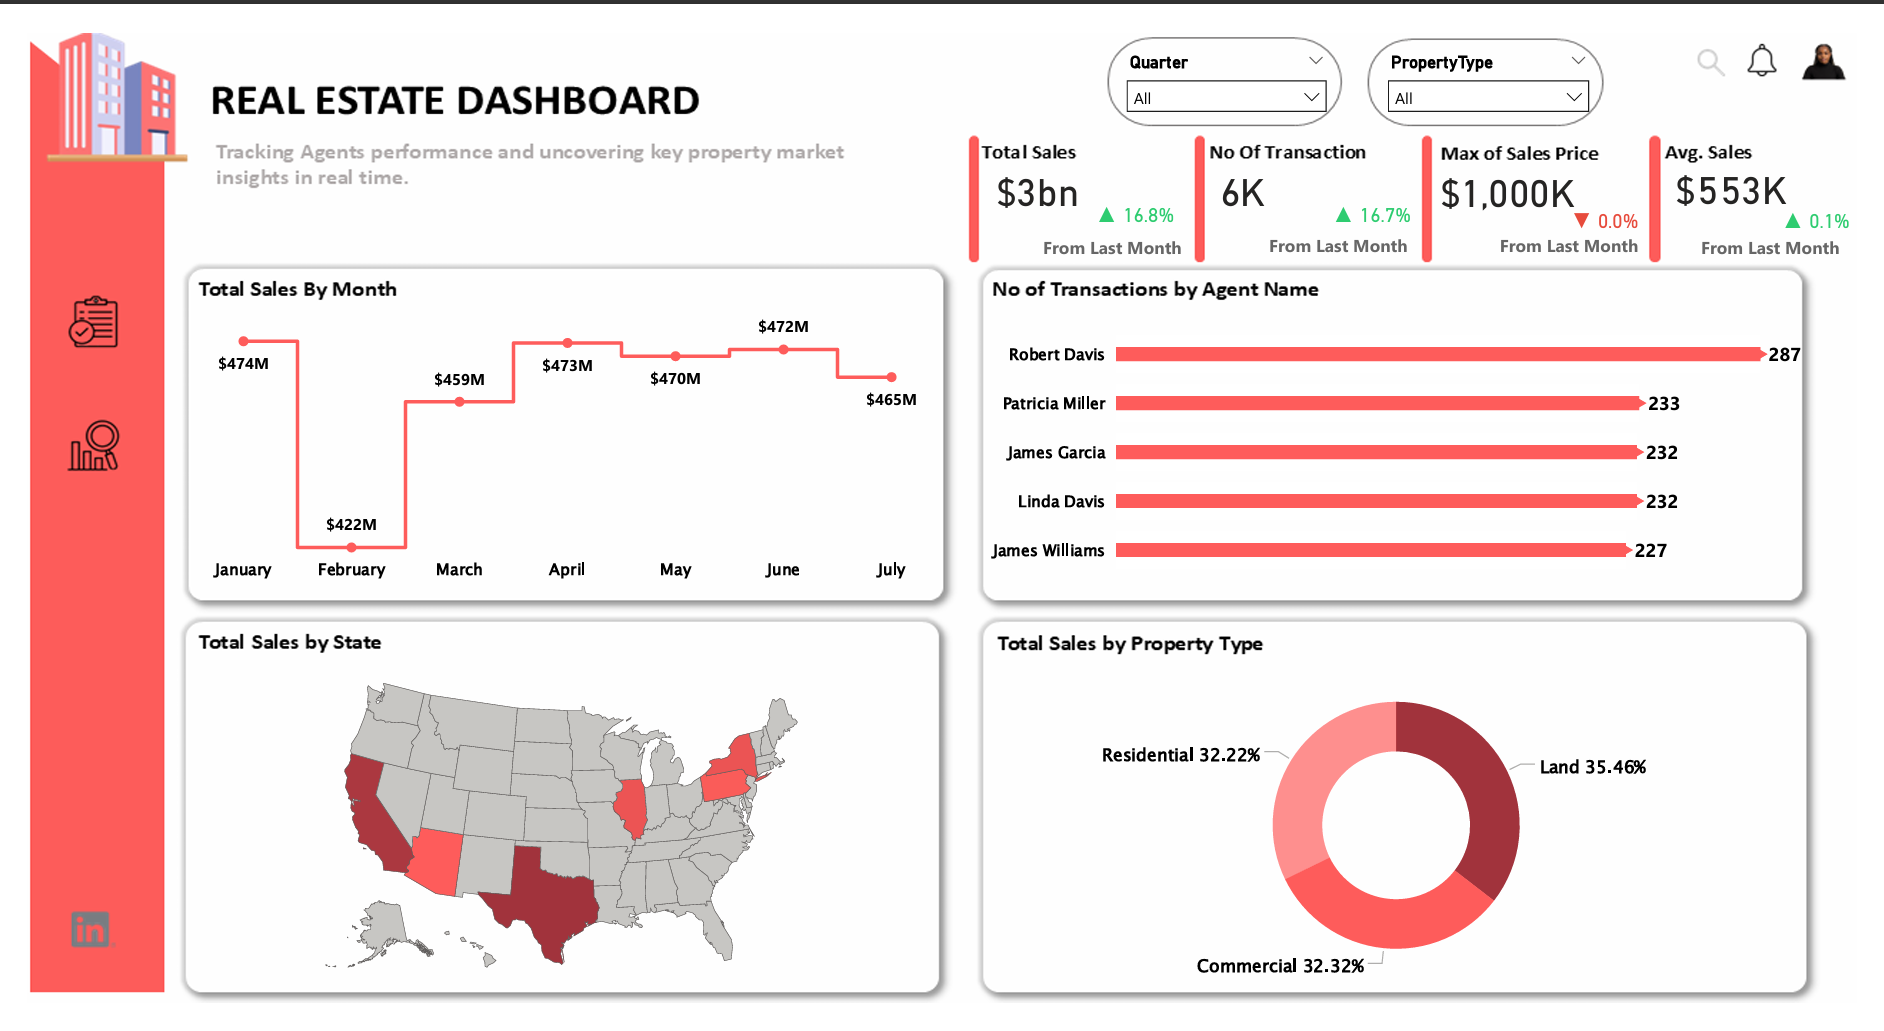

The dashboard page shown, as its layout file describes it:
{"tool":"powerbi","page":{"name":"Summary","canvas":[1554,824],"ordinal":0},"visuals":[{"type":"card","fields":{"Values":["Calculated Measures.No of Transaction"]},"box":[984.7,101.7,94.9,62.7],"z":0},{"type":"card","fields":{"Values":["Calculated Measures.Total Sales Amount"]},"box":[791.5,111.9,132.2,40.7],"z":1000},{"type":"card","fields":{"Values":["Calculated Measures.Average Sales"]},"box":[1383.1,100,128.8,62.7],"z":2000},{"type":"clusteredBarChart","fields":{"Category":["Agent Dim.AgentName"],"Y":["Calculated Measures.No of Transaction"]},"box":[813.6,227.1,698.3,250.8],"z":3000},{"type":"lineChart","title":"Total Sales by Month","fields":{"Category":["Calender Dim.Month"],"Y":["Sum(Guyus Real Estate.SalePrice)"]},"box":[142.4,227.1,633.9,250.8],"z":4000},{"type":"donutChart","fields":{"Category":["Property Dim.PropertyType"],"Y":["Calculated Measures.Total Sales Amount"]},"box":[813.6,533.9,698.3,278],"z":5000},{"type":"shapeMap","fields":{"Category":["Location Dim.State"],"Value":["Calculated Measures.Total Sales Amount"]},"box":[142.4,533.9,623.7,278],"z":6000},{"type":"slicer","fields":{"Values":["Calender Dim.Quarter"]},"box":[923.7,11.9,189.8,61],"z":7000},{"type":"slicer","fields":{"Values":["Property Dim.PropertyType"]},"box":[1145.8,11.9,191.5,67.8],"z":8000},{"type":"card","fields":{"Values":["Calculated Measures.Total Sales Amount MoM Display%"]},"box":[893.3,135,91.7,40],"z":9000},{"type":"card","fields":{"Values":["Calculated Measures.No of Transactions MoM Display%"]},"box":[1088.9,135.2,101.9,40.7],"z":10000},{"type":"card","fields":{"Values":["Calculated Measures.Max of salesprice"]},"box":[1190.4,111.5,134.6,44.2],"z":11000},{"type":"card","fields":{"Values":["Calculated Measures.Max of salesprice MoM Display%"]},"box":[1296.3,138.9,83.3,42.6],"z":12000},{"type":"card","fields":{"Values":["Calculated Measures.Average Sales MoM Display%"]},"box":[1481.5,135.2,72.2,50],"z":13000},{"type":"textbox","box":[857.7,167.3,194.2,34.6],"z":14000},{"type":"textbox","box":[1050,165.4,194.2,32.7],"z":15000},{"type":"textbox","box":[1246.2,165.4,136.5,36.5],"z":16000},{"type":"textbox","box":[1417.3,167.3,136.5,36.5],"z":17000},{"type":"image","box":[29.6,729.6,53.7,68.5],"z":18000}]}

Visuals, with their boxes on the page's 1554x824 design canvas (x1, y1, x2, y2). These are canvas units, not pixel positions in the 1884x1031 screenshot, which may show the page scaled, cropped or inside an application window:
card - Calculated Measures.No of Transaction: (985,102,1080,164)
card - Calculated Measures.Total Sales Amount: (792,112,924,153)
card - Calculated Measures.Average Sales: (1383,100,1512,163)
clusteredBarChart - Agent Dim.AgentName x Calculated Measures.No of Transaction: (814,227,1512,478)
"Total Sales by Month" lineChart: (142,227,776,478)
donutChart - Property Dim.PropertyType x Calculated Measures.Total Sales Amount: (814,534,1512,812)
shapeMap - Location Dim.State x Calculated Measures.Total Sales Amount: (142,534,766,812)
slicer - Calender Dim.Quarter: (924,12,1114,73)
slicer - Property Dim.PropertyType: (1146,12,1337,80)
card - Calculated Measures.Total Sales Amount MoM Display%: (893,135,985,175)
card - Calculated Measures.No of Transactions MoM Display%: (1089,135,1191,176)
card - Calculated Measures.Max of salesprice: (1190,112,1325,156)
card - Calculated Measures.Max of salesprice MoM Display%: (1296,139,1380,182)
card - Calculated Measures.Average Sales MoM Display%: (1482,135,1554,185)
textbox: (858,167,1052,202)
textbox: (1050,165,1244,198)
textbox: (1246,165,1383,202)
textbox: (1417,167,1554,204)
image: (30,730,83,798)
